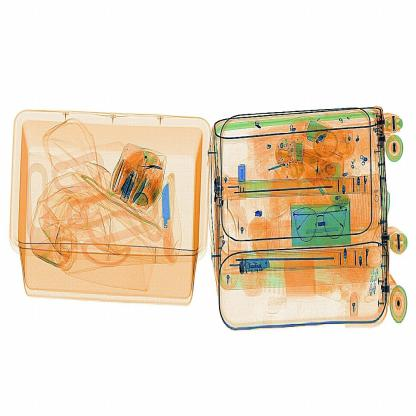wrench: (160, 177, 178, 259)
